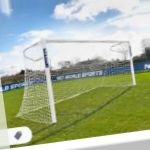goals: (14, 36, 139, 125)
